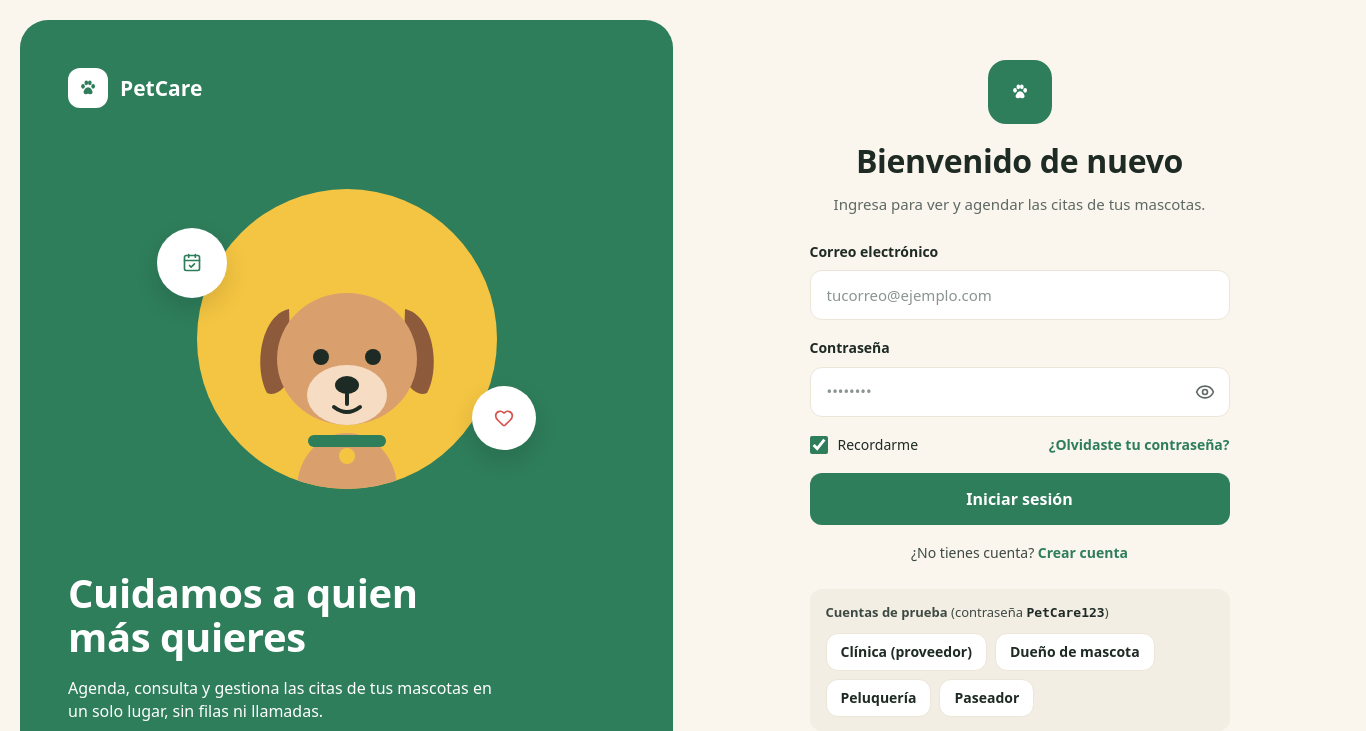
Test: Login › muestra errores si se envía vacío
Click the button "Iniciar sesión": (1020, 499) [810,473,1230,525]
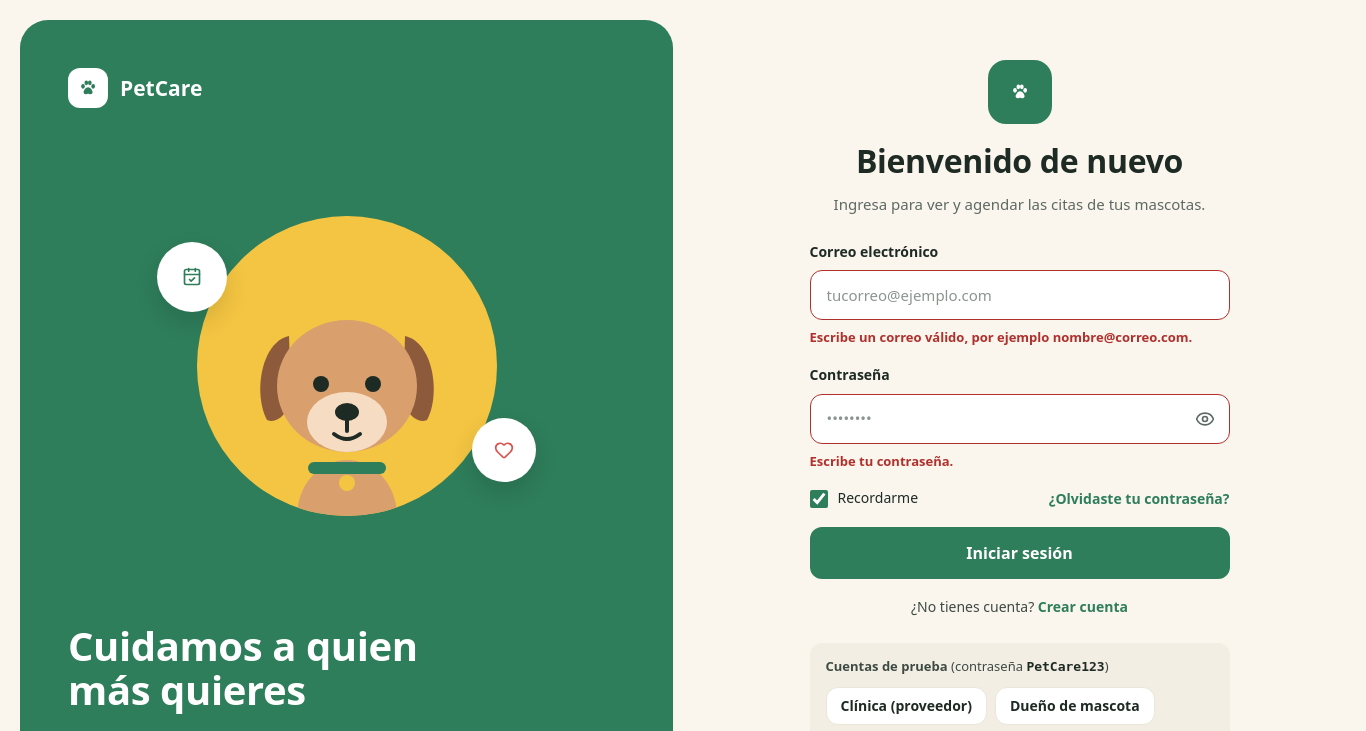
expect the text "Escribe un correo válido, por ejemplo nombre@correo.com." is shown: met, box [810,328,1230,347]
expect the text "Escribe tu contraseña." is shown: met, box [810,452,953,470]
